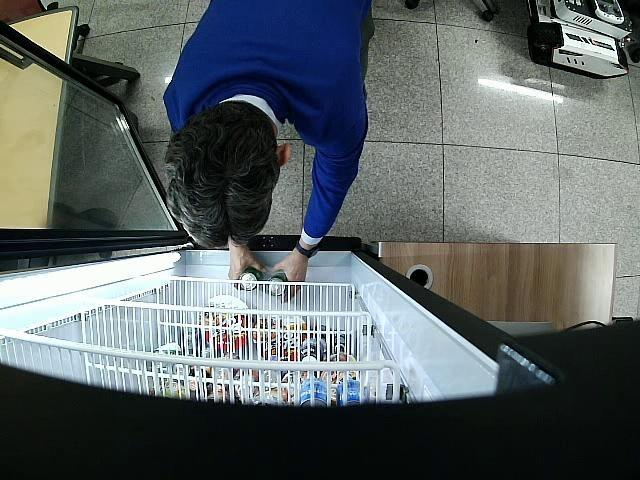12_chilsungCider: (240, 267, 264, 290), (268, 270, 288, 296)
